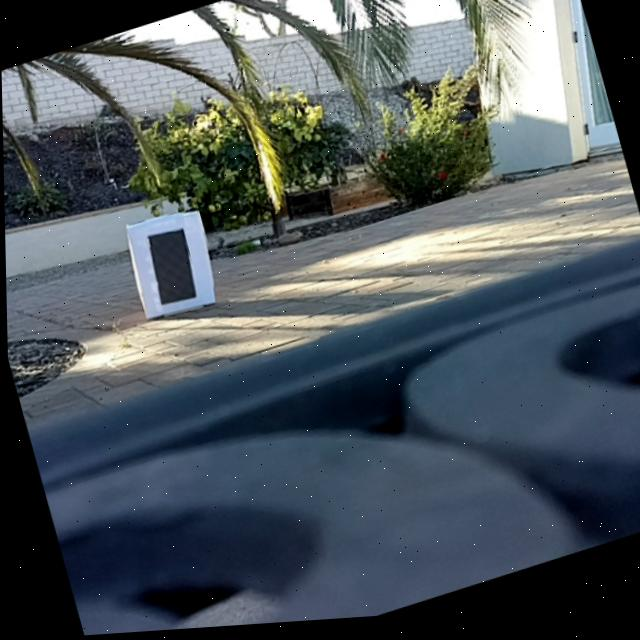led: (144, 226, 199, 309)
